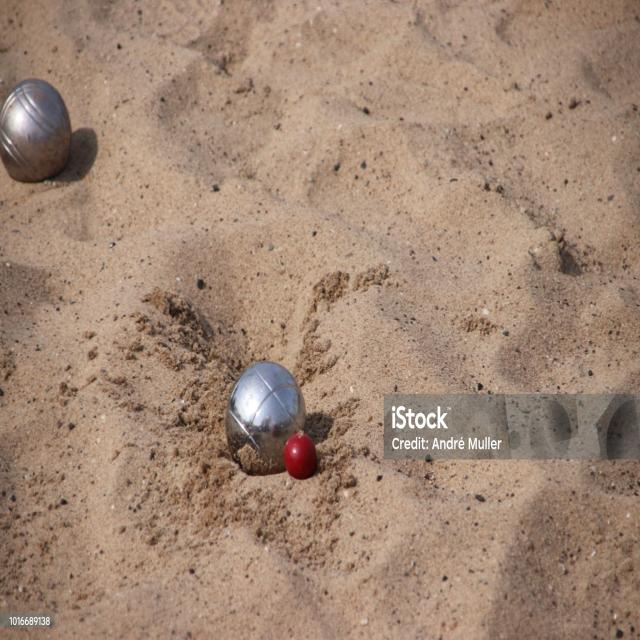hatball: (282, 429, 324, 489)
petanque: (0, 60, 81, 200), (224, 352, 306, 480)
